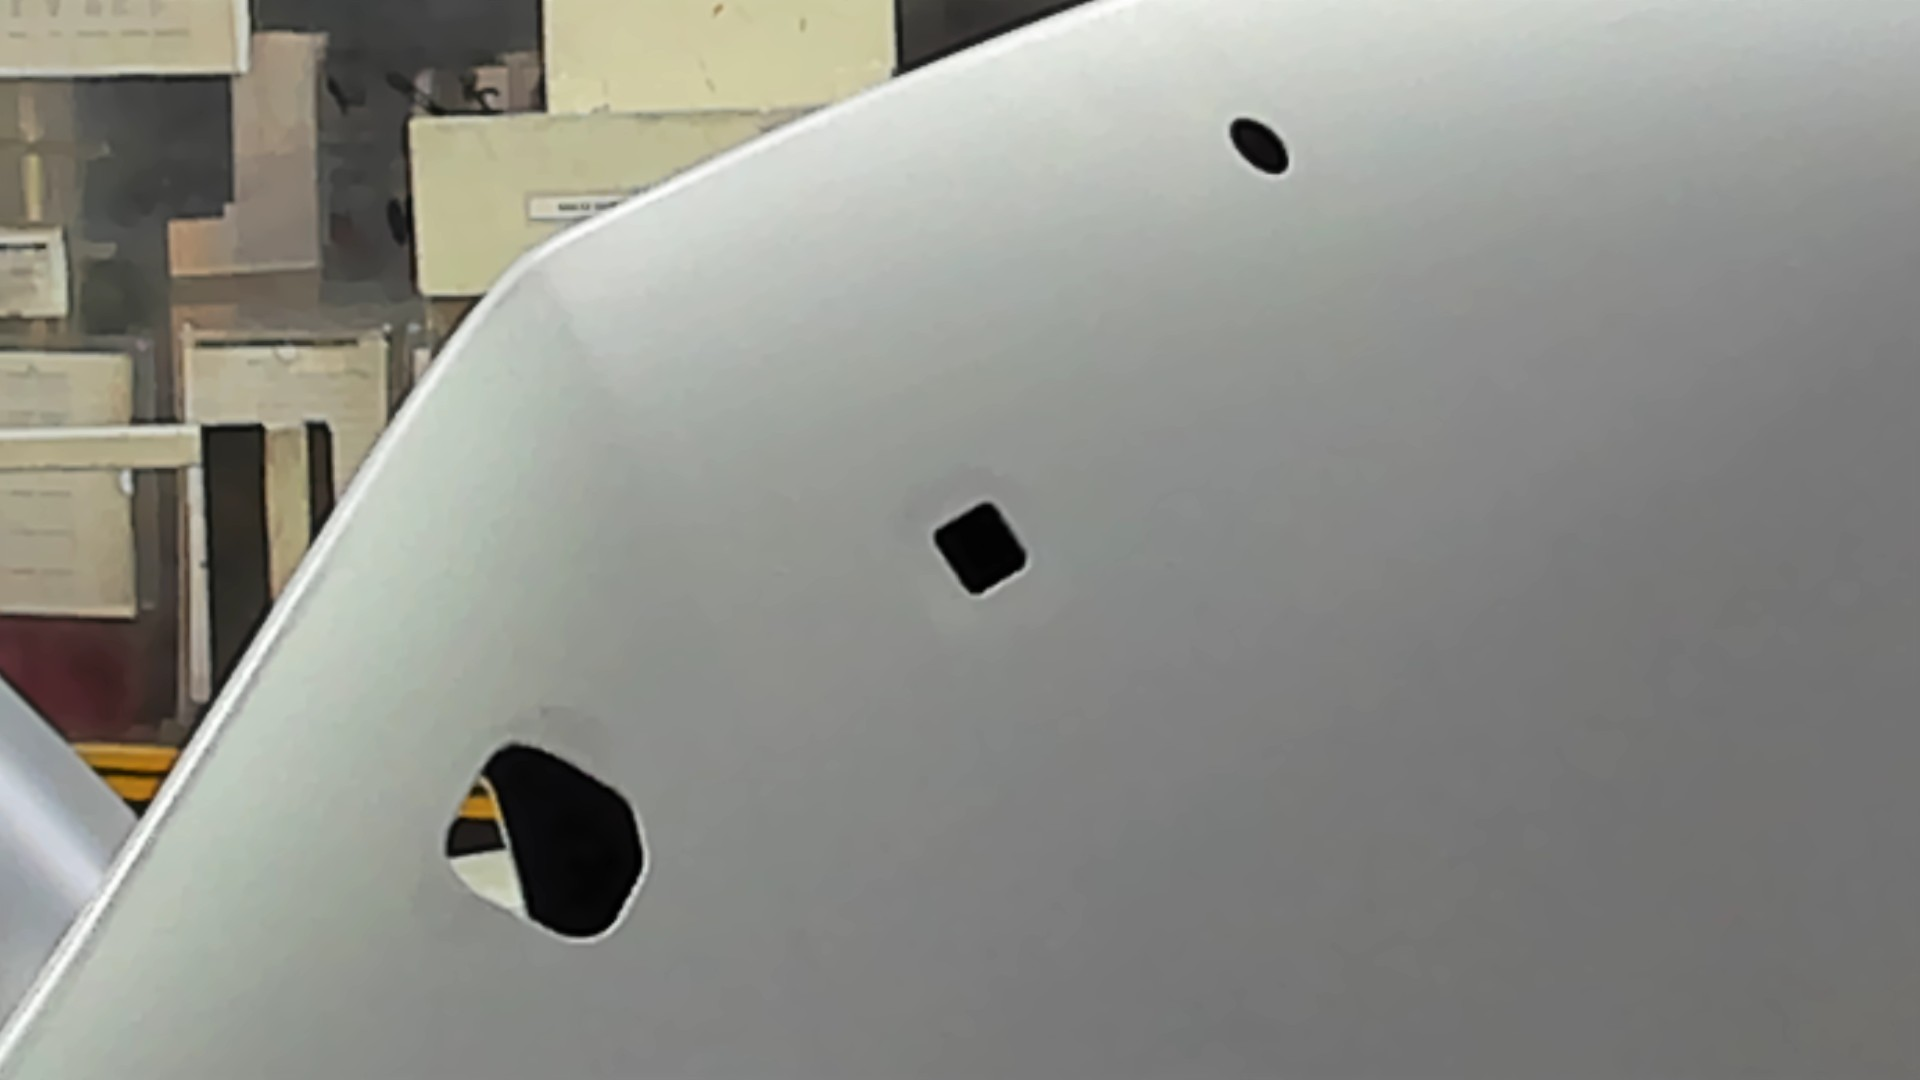chico: (1224, 111, 1298, 182)
grande: (435, 737, 658, 949)
mediano: (926, 491, 1035, 605)
